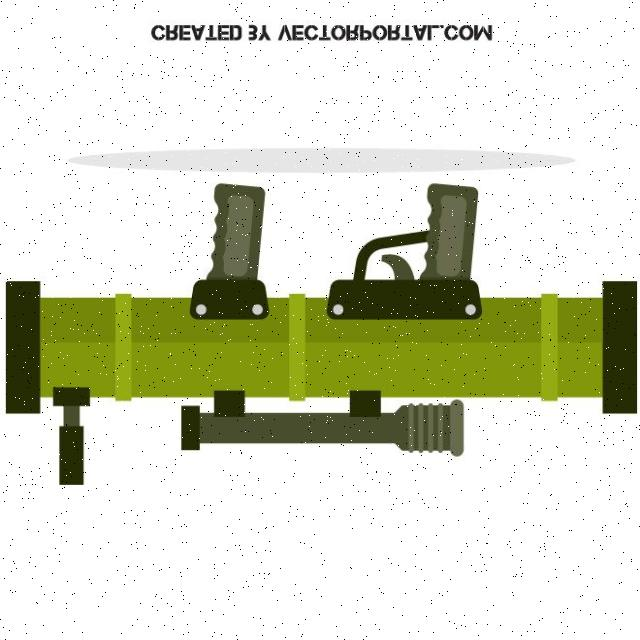bazooka: (1, 162, 640, 494)
